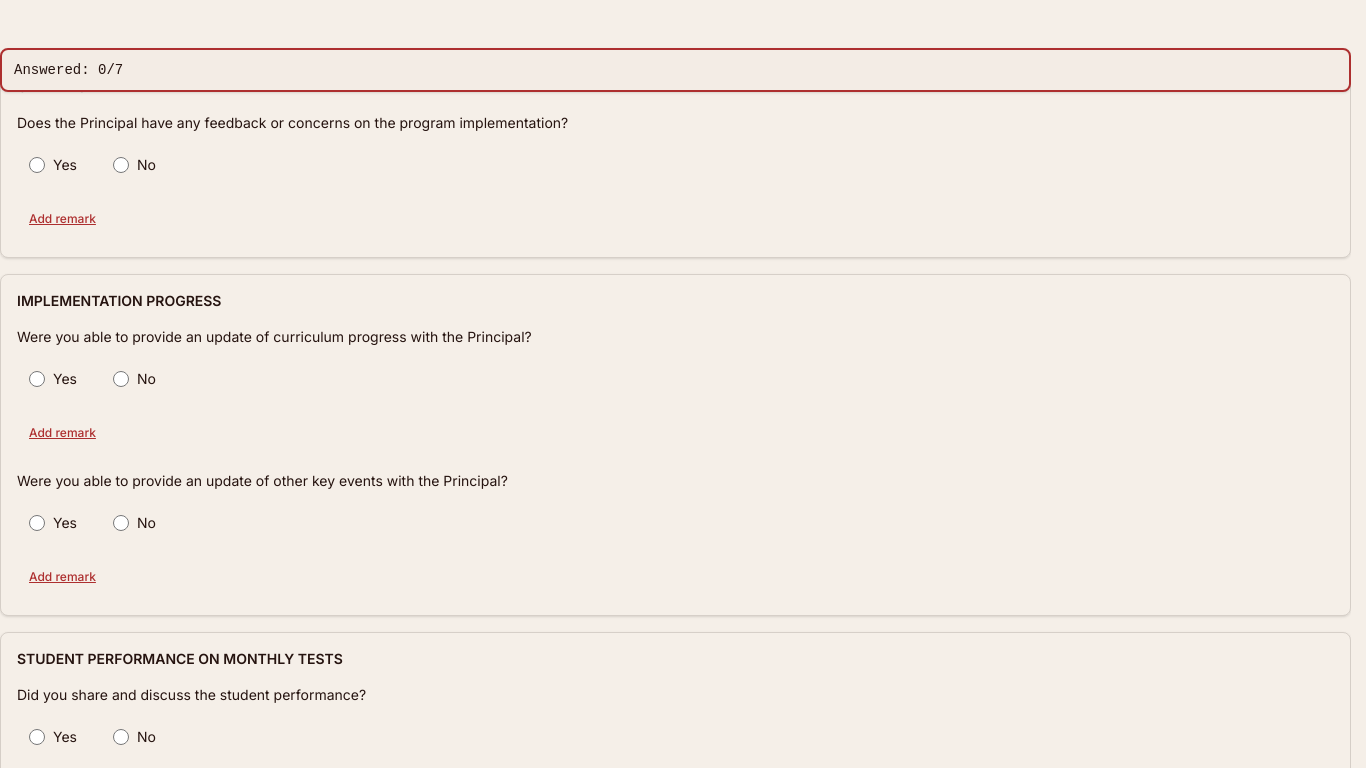
Test case: PrincipalInteractionForm › interactions › clicking Yes radio checks it and updates progress
Click the radio button with test id "principal-interaction-oh_program_feedback-yes".
click(37, 165)  # box 29,157 -> 45,173
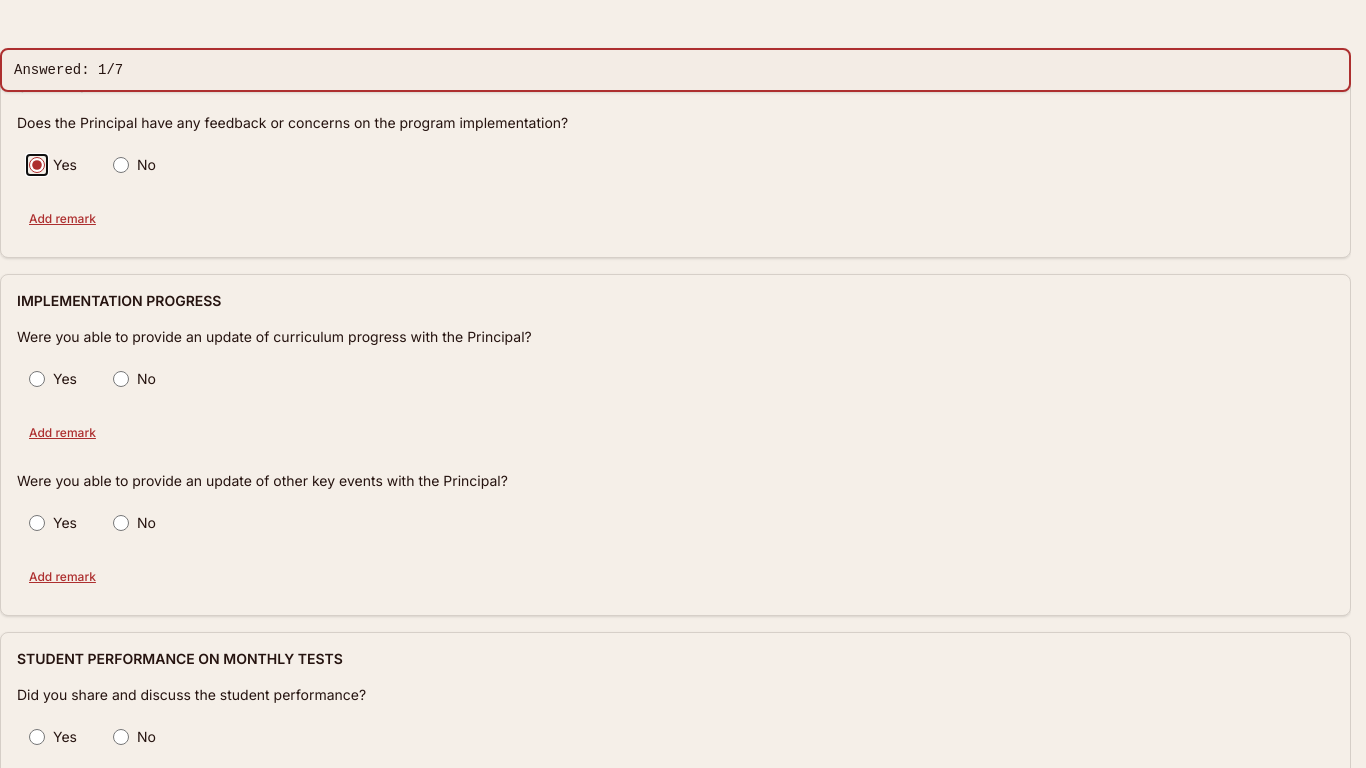
Expected: the radio button with test id "principal-interaction-oh_program_feedback-no" is not checked, 113,157 -> 129,173
Expected: the radio button with test id "principal-interaction-oh_program_feedback-yes" is checked, 29,157 -> 45,173
Expected: the element with test id "principal-interaction-progress" reads "Answered: 1/7", 0,48 -> 1351,92
